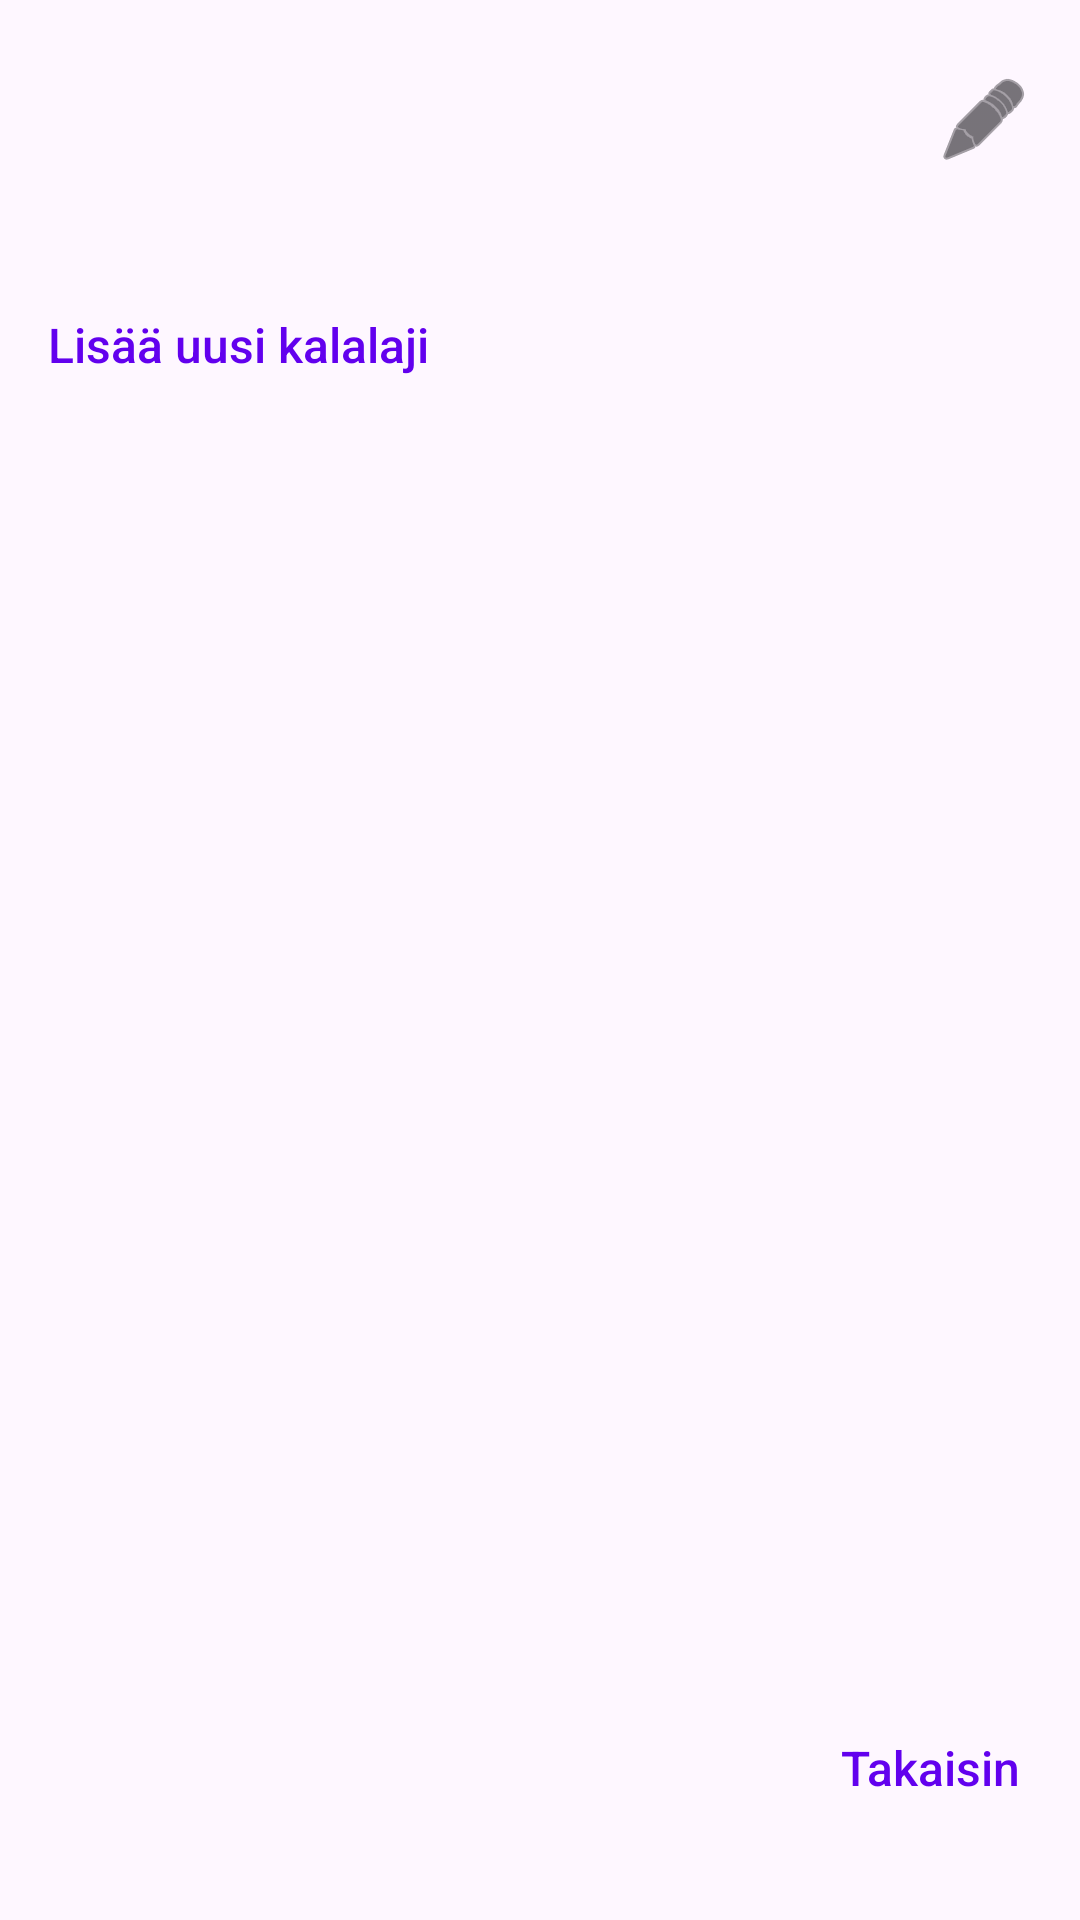

Icon click points for this 1080 × 1920 phone screenshot, format (x=x, y=y):
Muokkaa: (x=983, y=119)
